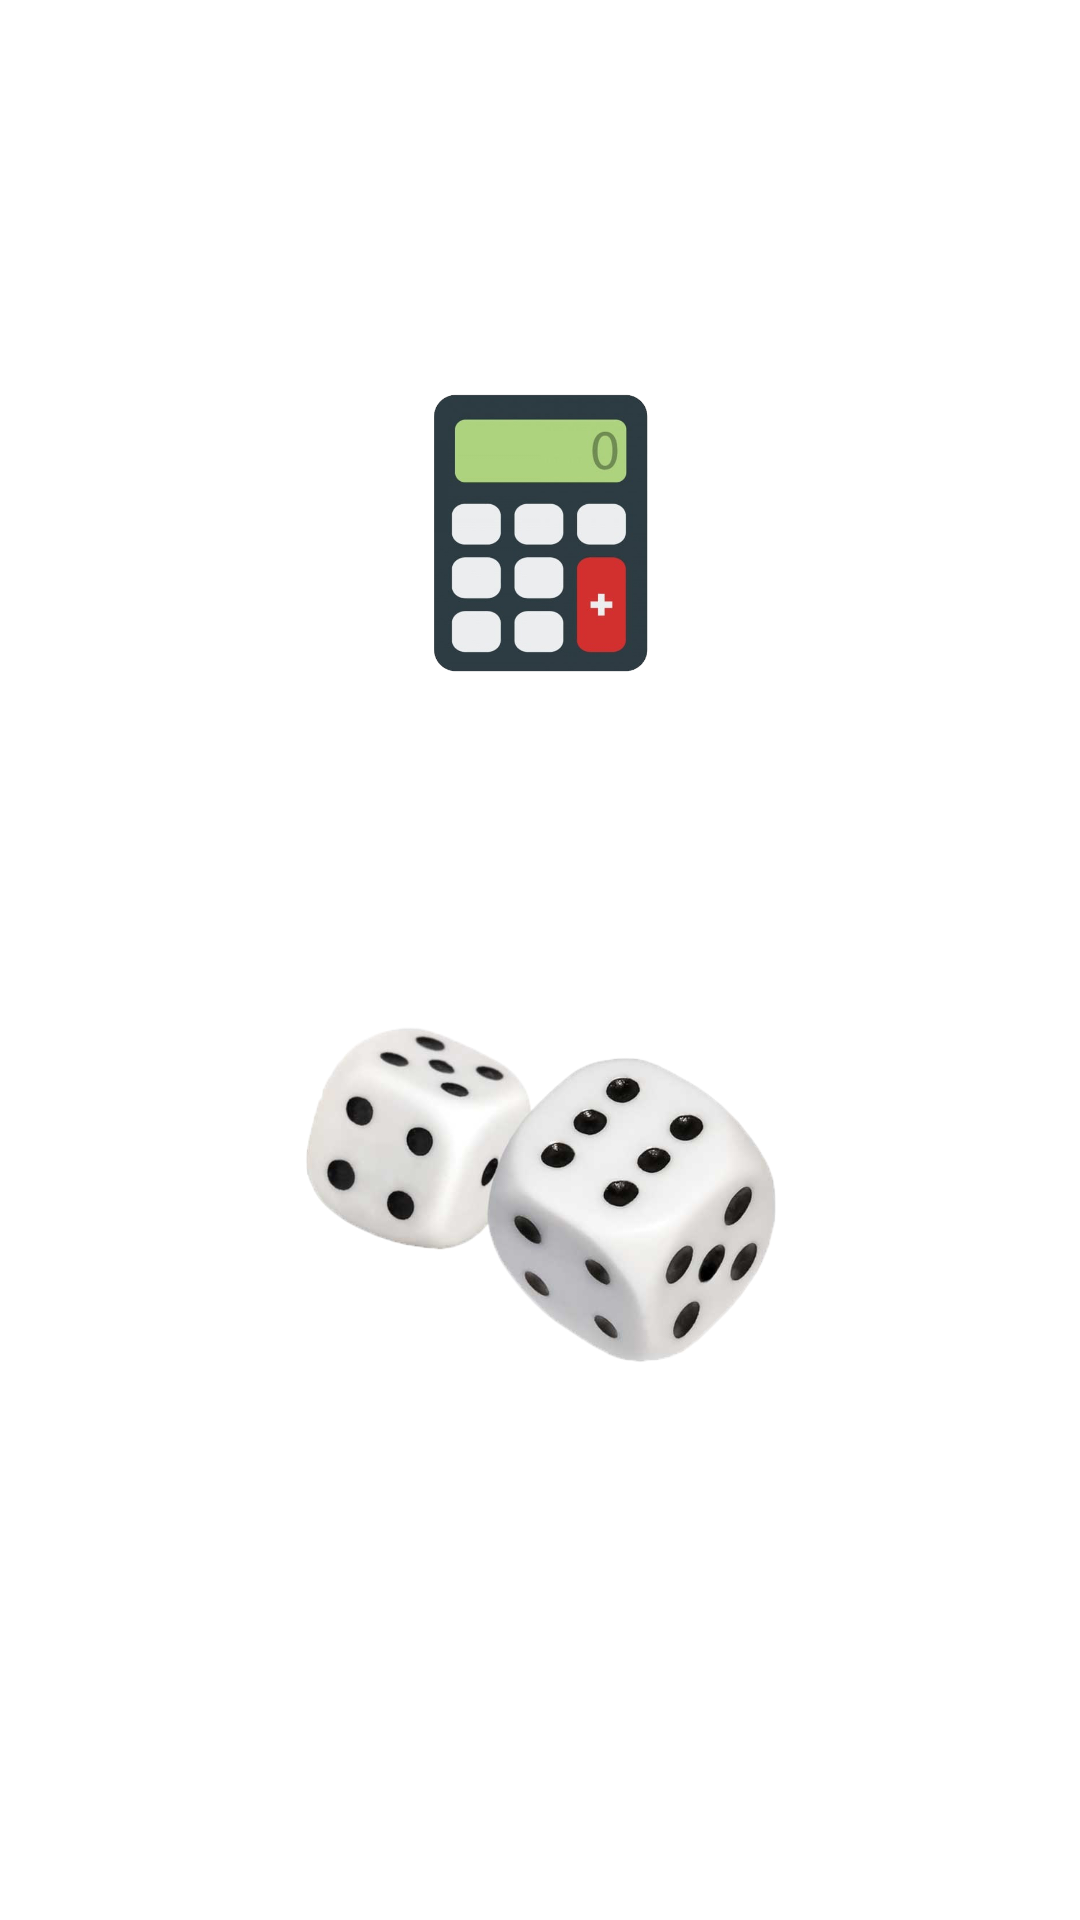

Where to tap for icons on this 1080*1920 app screen, as point (x, y):
calculator: point (541, 533)
